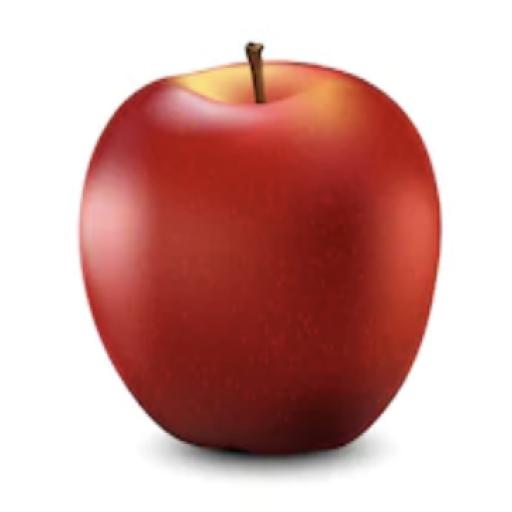apple: (81, 45, 440, 453)
